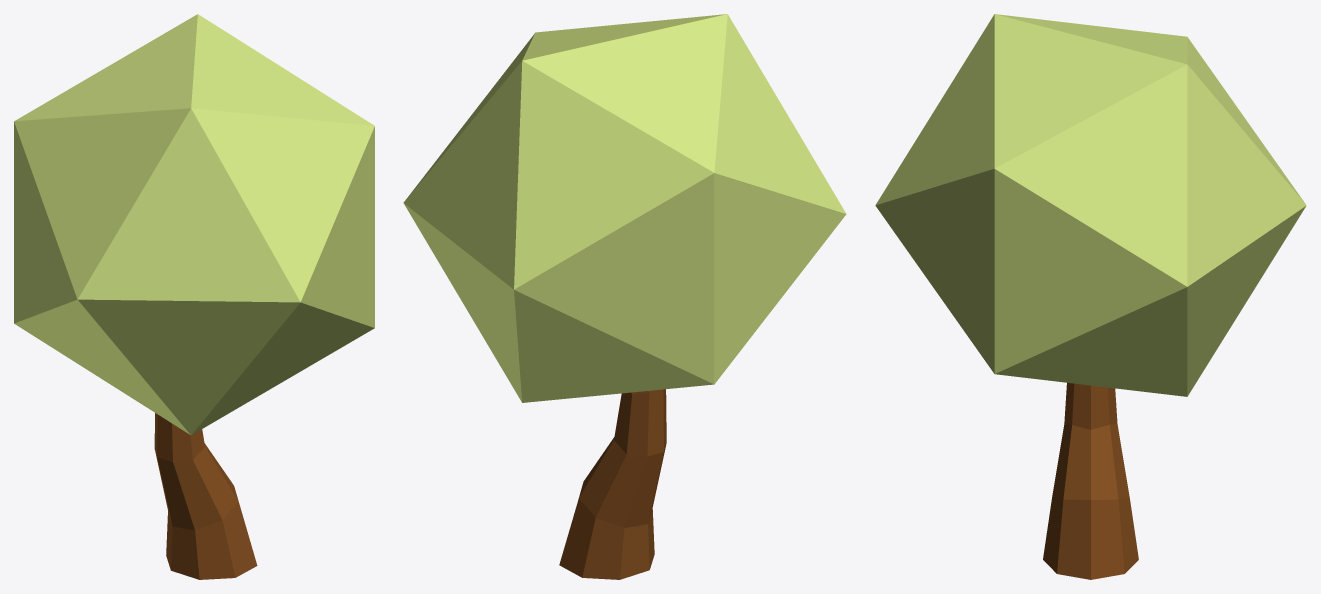
The model's file is bush3.glb.
3 views of the same model, side by side, from view 1: azimuth 30°, elevation 25°; view 2: azimuth 150°, elevation 25°; view 3: azimuth 270°, elevation 25° (orthographic). The views are drawn at different scales.
Visible parts, largest first — view 1: Bush3; view 2: Bush3; view 3: Bush3.
Part boxes in pixels (<box>): Bush3: <box>14,14,374,579</box>; Bush3: <box>403,14,846,579</box>; Bush3: <box>875,14,1306,579</box>.
Bounding box in the file's own units: 0.8552 × 1.25 × 0.9562.
